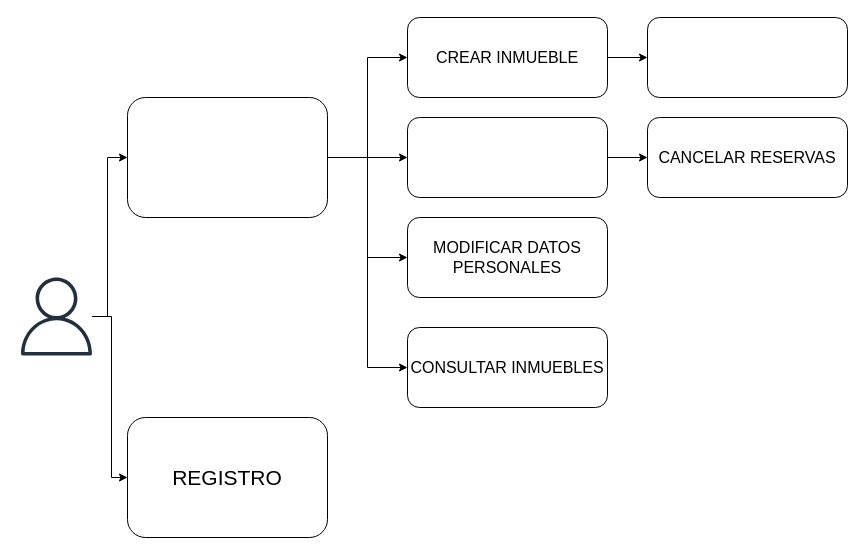
The diagram is 865 pixels wide and 555 high, and some of its shapes have lost their labels. Each missing label, with the box of its shape:
CONSULTAR RESERVAS: (406, 116, 608, 198)
LOGIN: (126, 96, 328, 218)
MODFICAR INMUEBLE / BORRARLO: (646, 16, 848, 98)
